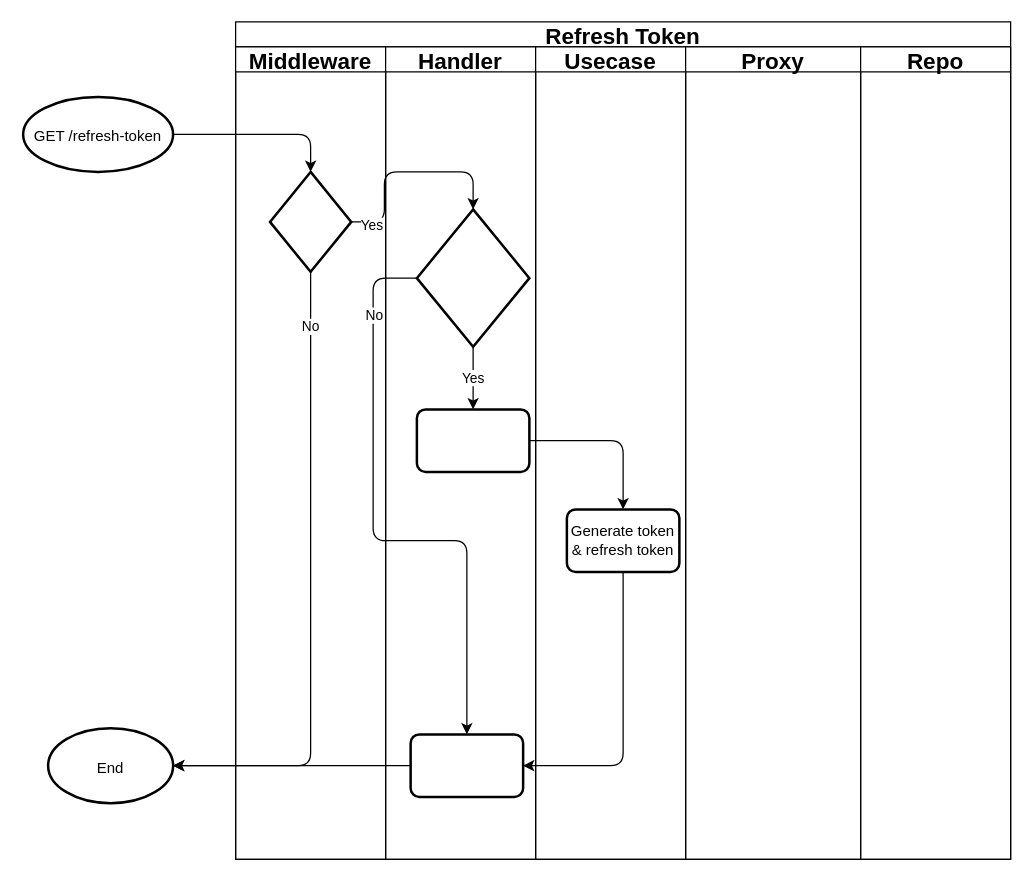
Some shapes in this 1033 by 881 pixel diagram are drawn without their labels. Here are the shapes that lost their labels. From the top down, the centre of each, then its label:
(310,221): token header valid?
(472,278): if token type is "refresh"?
(472,440): Call usecase refresh token
(466,765): map response & handle error
